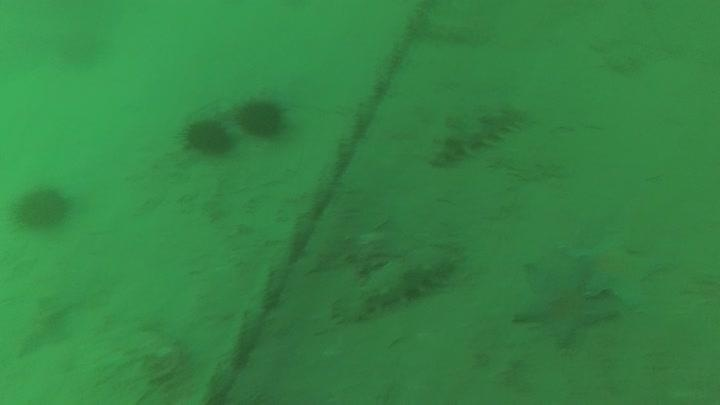echinus: (11, 182, 74, 232), (235, 95, 289, 141), (180, 115, 236, 159)
holothurian: (339, 249, 460, 323), (426, 101, 528, 169)
starfish: (510, 256, 621, 350), (566, 231, 673, 310)
